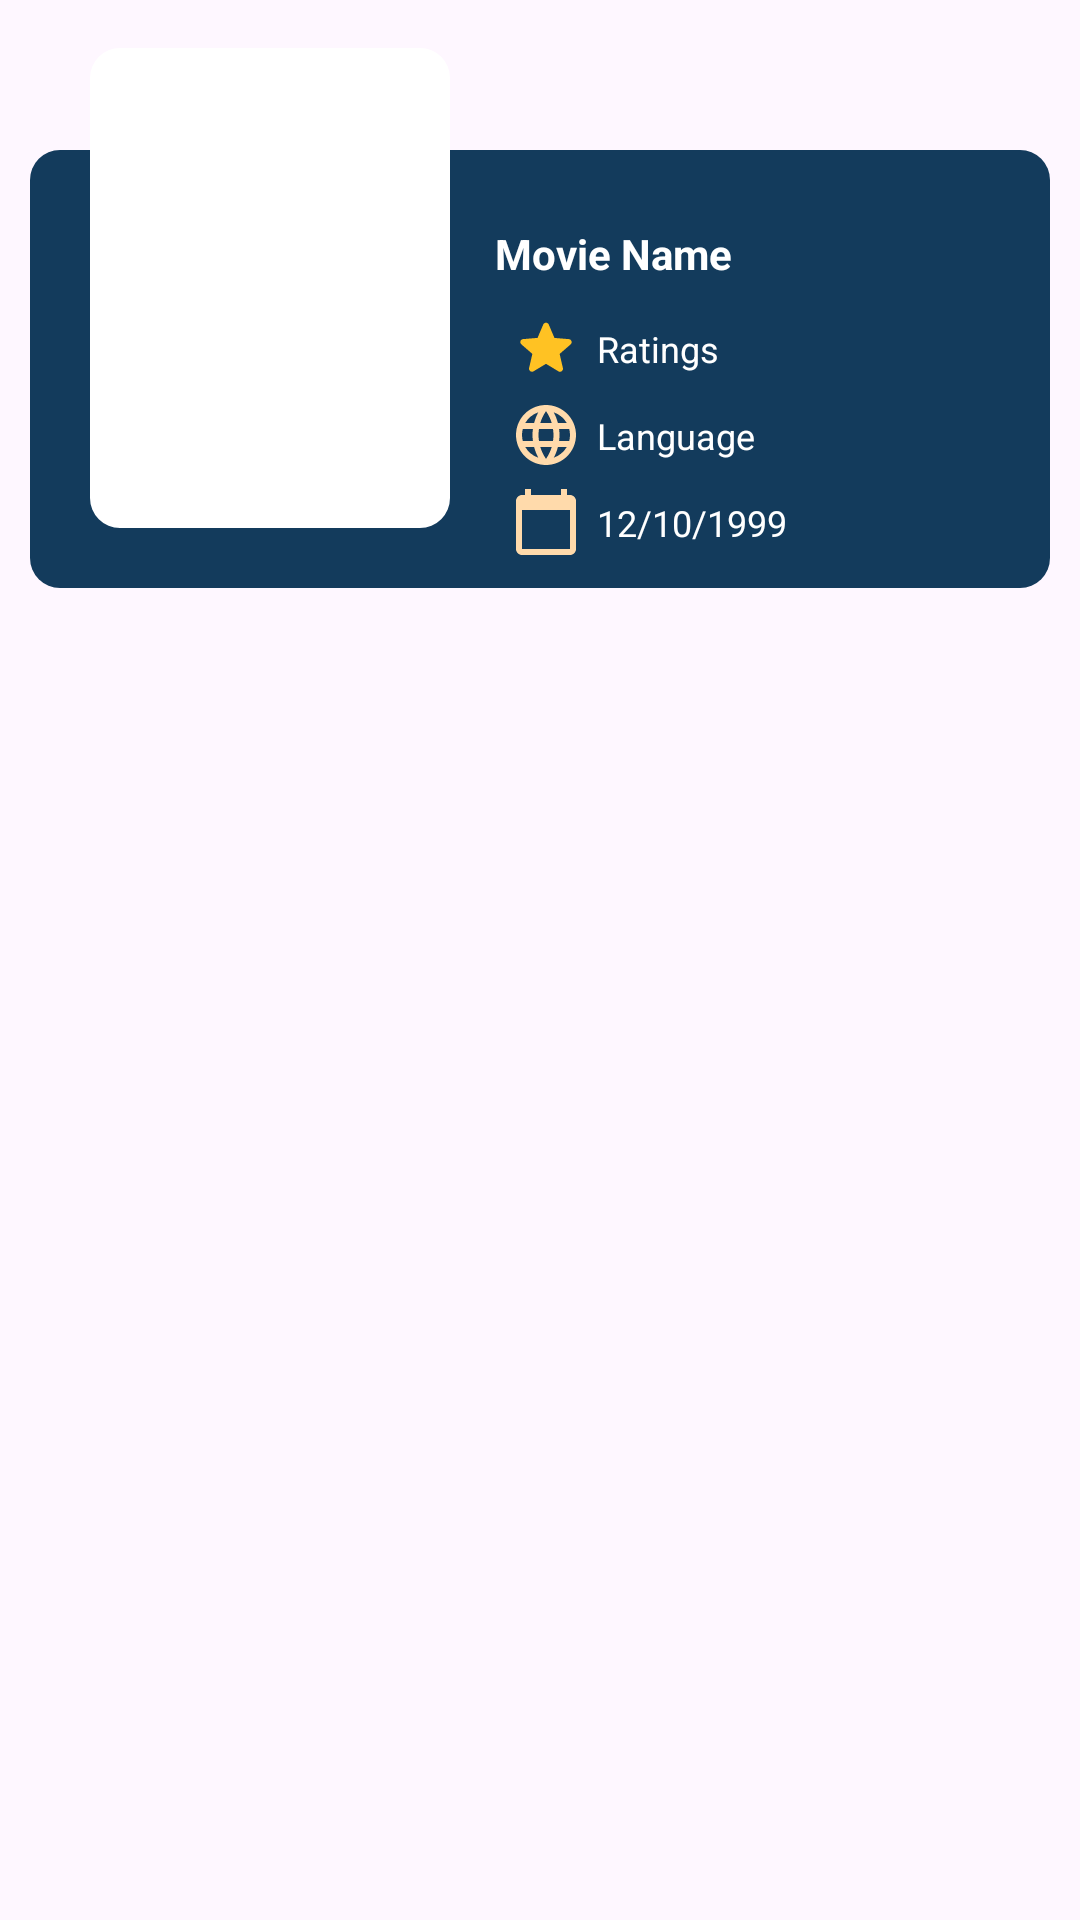

Named icons in this screenshot (1080w x 1920h) and their bounding boxes, (x1, y1, x2, y2):
Release Data Icon: (516, 489, 576, 555)
Start Icon: (520, 322, 572, 372)
